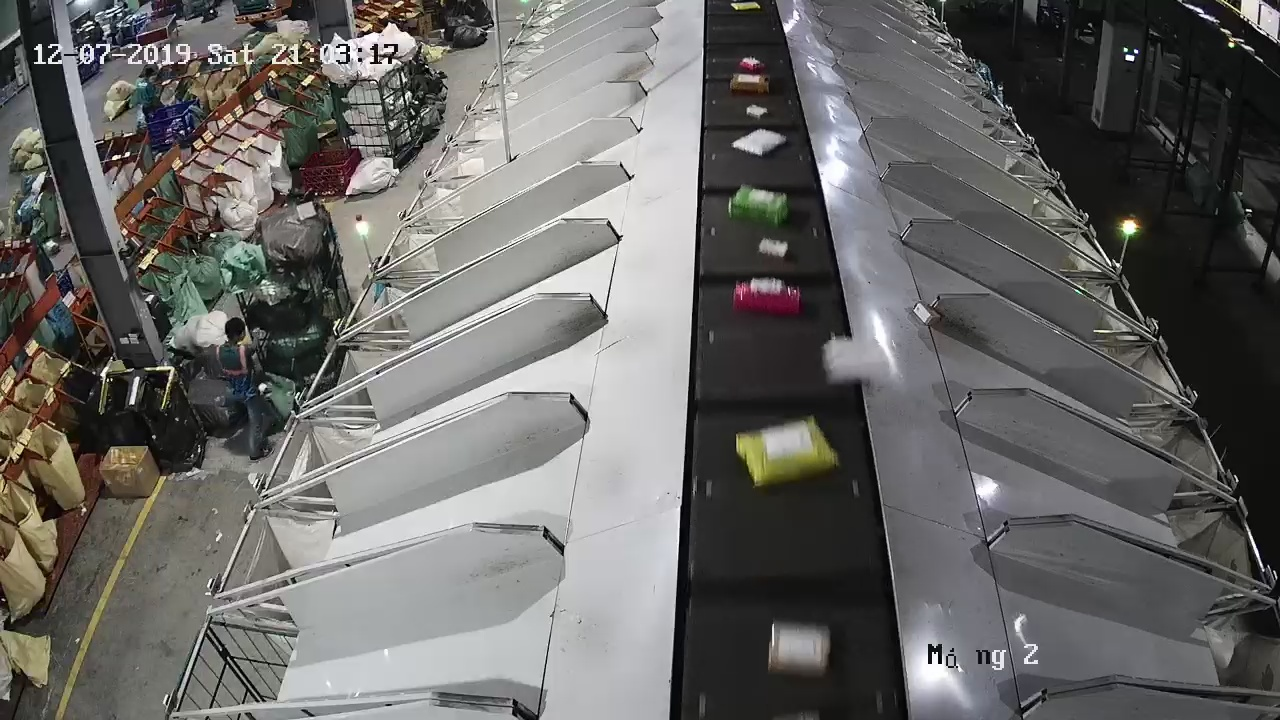parcel: (820, 333, 891, 387)
